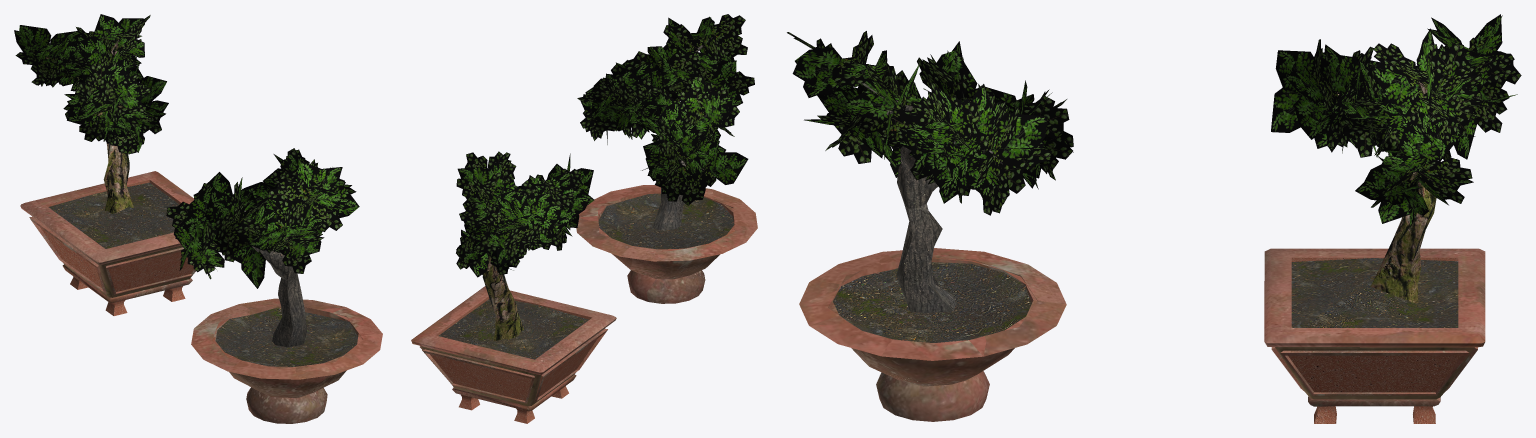
File: bonsai trees.fbx
3 views of the same model, side by side, from view 1: azimuth 30°, elevation 25°; view 2: azimuth 150°, elevation 25°; view 3: azimuth 270°, elevation 25° (orthographic). The views are drawn at different scales.
Visible parts, largest first — view 1: Cylinder, Cube; view 2: Cylinder, Cube; view 3: Cube, Cylinder.
Boxes of the visible parts, x1,y1,x2,y2 form: Cylinder: (166,148,382,423); Cube: (14,14,195,315); Cylinder: (576,14,757,303); Cube: (411,151,616,423); Cube: (1264,14,1521,423); Cylinder: (787,31,1073,421).
Size of the model in its own units: 270 by 381 by 691.
2 materials, 2 textured.
